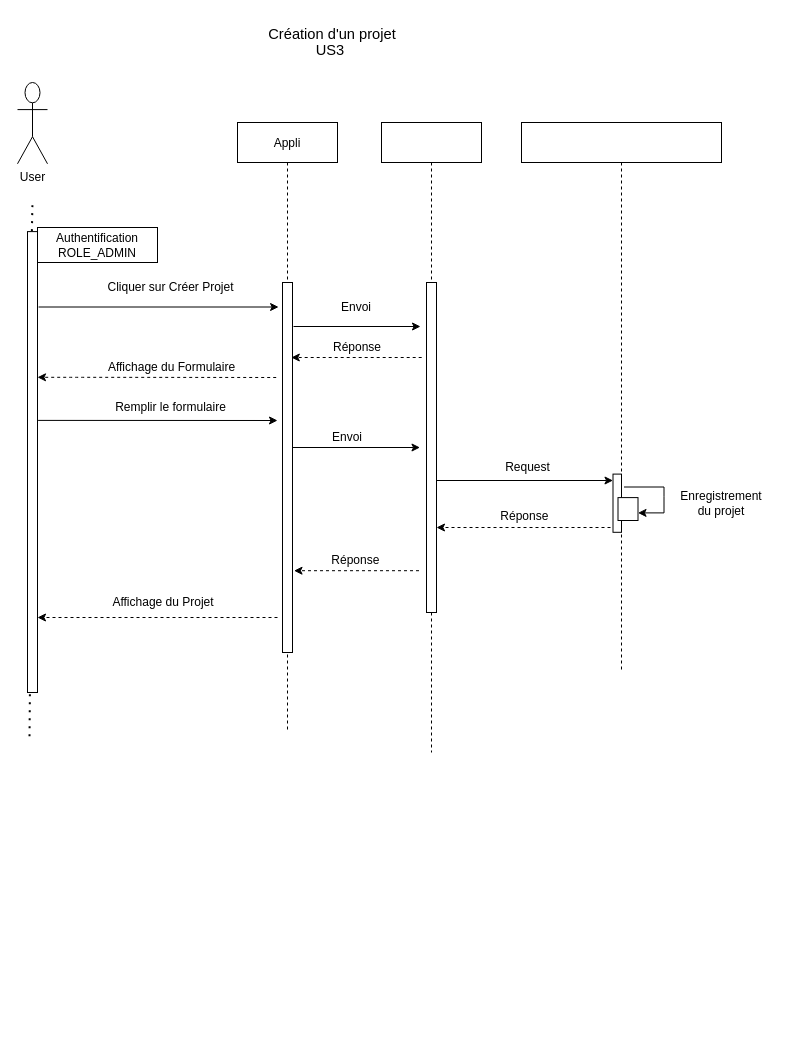
The diagram is 785 pixels wide and 1064 high, and some of its shapes have lost their labels. The shapes that lost their labels are listed below. From the top down, each one's box as (x1, y1, x2, y2) in pixels, then its label:
(520, 122, 722, 672): Base de données
(380, 122, 482, 752): Serveur
